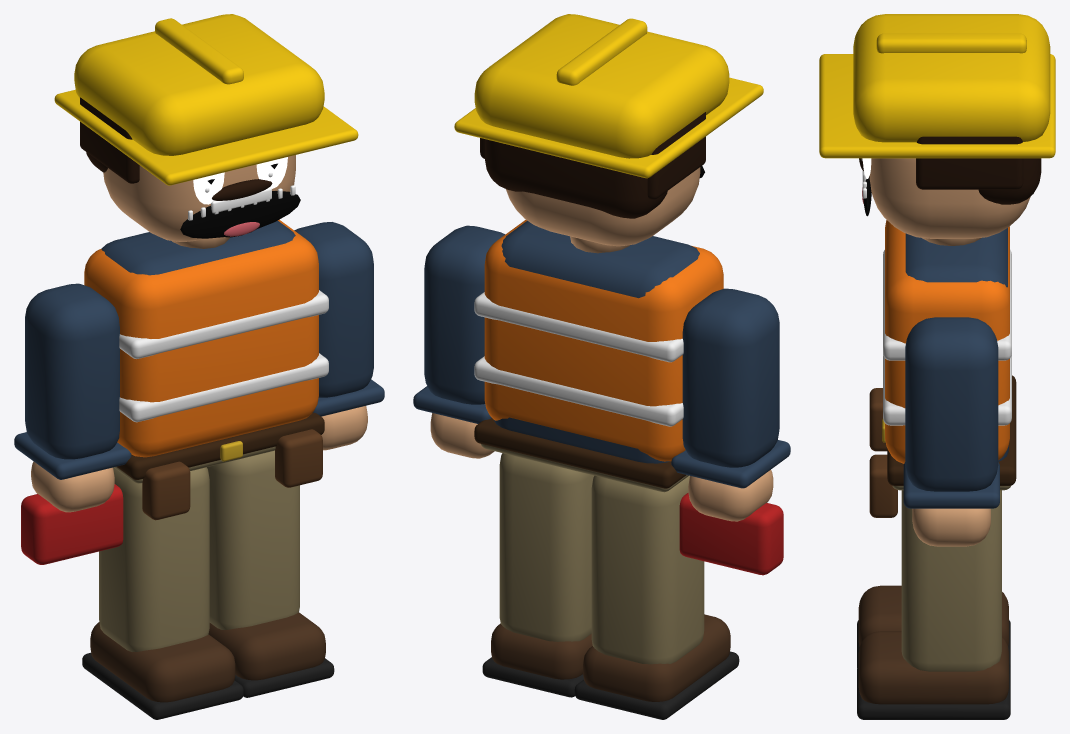
File: person_worker.glb
The picture shows the model from 3 angles, left to right: view 1: azimuth 30°, elevation 25°; view 2: azimuth 150°, elevation 25°; view 3: azimuth 270°, elevation 25°; orthographic projection. The views are drawn at different scales.
Visible parts, largest first — view 1: vest, hardhat, leg_meshL, sleeveL, leg_meshR, sleeveR, hardhat_brim, shoeL, toolbox, head, shoeR, torso (+18 smaller); view 2: vest, hardhat, leg_meshL, leg_meshR, sleeveL, torso, sleeveR, hair_back, head, toolbox, shoeL, hardhat_brim (+13 smaller); view 3: hardhat, sleeveR, leg_meshR, vest, hardhat_brim, head, shoeR, torso, hair_side.001, hardhat_ridge, handR, soleR (+8 smaller).
Boxes of the visible parts, box(x1,y1,x2,y2) form: vest: box(84, 219, 318, 457); hardhat: box(74, 14, 324, 155); leg_meshL: box(99, 467, 209, 651); sleeveL: box(25, 283, 119, 459); leg_meshR: box(207, 450, 299, 629); sleeveR: box(294, 222, 373, 397); hardhat_brim: box(54, 89, 358, 185); shoeL: box(90, 622, 235, 702); toolbox: box(21, 484, 123, 564); head: box(103, 155, 295, 241); shoeR: box(208, 612, 325, 680); torso: box(101, 220, 295, 275); vest: box(484, 220, 723, 461); hardhat: box(474, 14, 729, 158); leg_meshL: box(591, 475, 704, 664); leg_meshR: box(499, 453, 594, 641); sleeveL: box(682, 288, 779, 467); torso: box(494, 220, 699, 463); sleeveR: box(424, 225, 504, 404); hair_back: box(485, 139, 667, 218); head: box(506, 167, 700, 246); toolbox: box(679, 493, 783, 575); shoeL: box(583, 614, 730, 701); hardhat_brim: box(454, 77, 763, 178); hardhat: box(853, 14, 1050, 142); sleeveR: box(905, 317, 998, 491); leg_meshR: box(901, 490, 1001, 671); vest: box(885, 220, 1009, 463); hardhat_brim: box(819, 54, 1055, 158); head: box(869, 158, 1030, 238); shoeR: box(858, 631, 1008, 704); torso: box(905, 228, 1008, 461); hair_side.001: box(916, 136, 1023, 189); hardhat_ridge: box(876, 33, 1026, 53); handR: box(912, 508, 990, 546); soleR: box(857, 665, 1010, 719).
Bounding box in the file's own units: 1.11 × 1.97 × 0.66.
